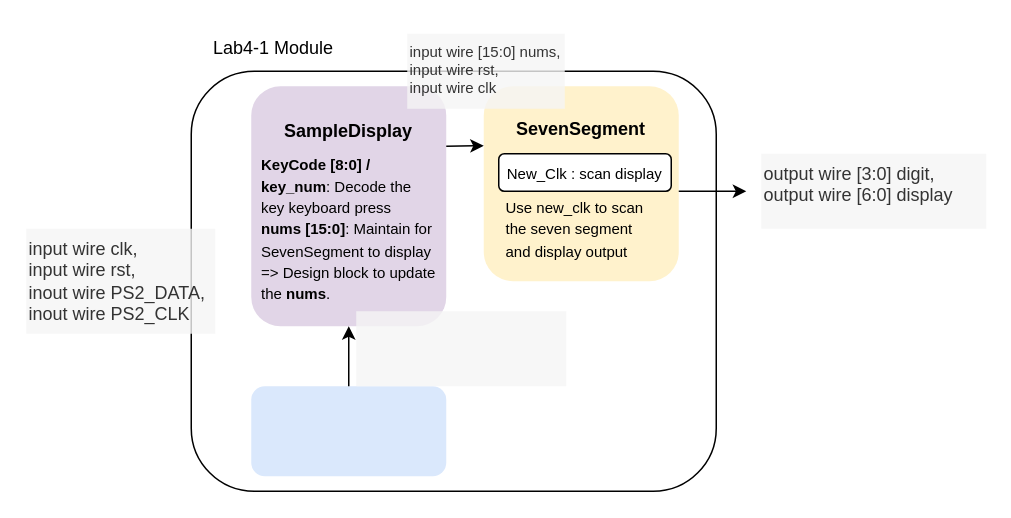
Image size: 1011x518. Some labels were removed from this diagram. The shapes that lost their labels are listed below. From the top down, each one's box as (x1, y1, x2, y2) in pixels, then its label:
(356, 310, 566, 386): output reg [511:0] key_down, output wire [8:0] last_change, output reg key_valid
(250, 386, 446, 476): KeyboardDecoder
